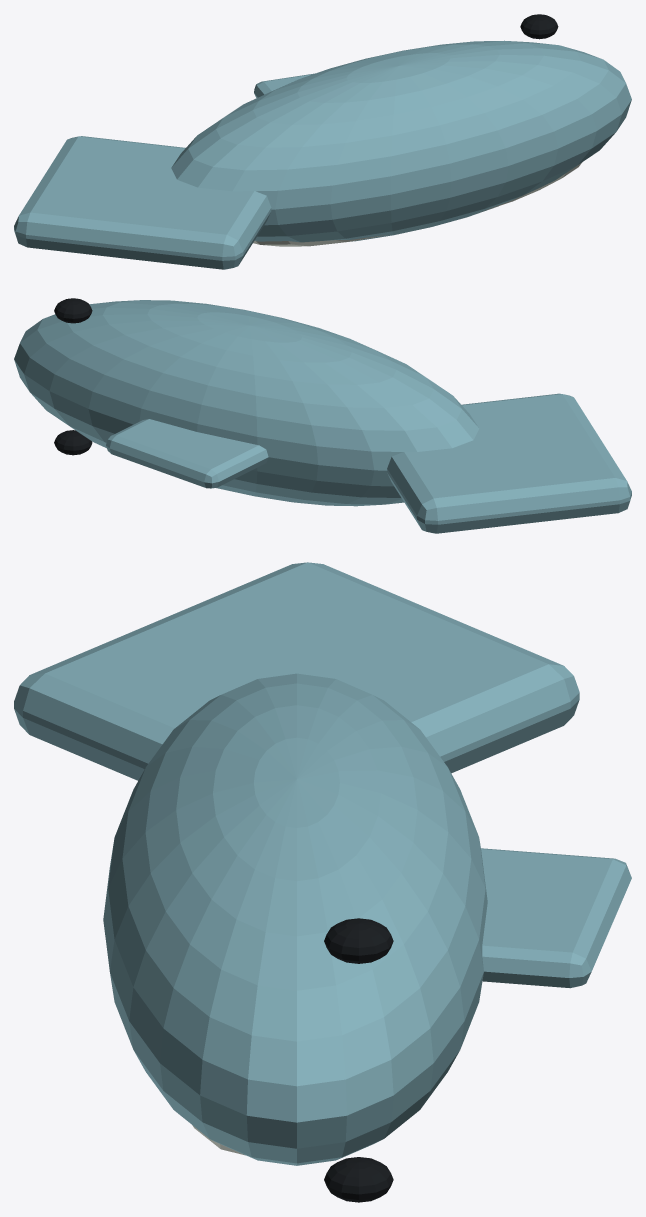
Rendered from fish.glb.
3 renders of one model, top to bottom at view 1: azimuth 30°, elevation 25°; view 2: azimuth 150°, elevation 25°; view 3: azimuth 270°, elevation 25°, orthographic. The views are drawn at different scales.
Parts seen in each view (by area): view 1: Fish_Body, Fish_Tail, Eye.001, Fish_Belly, Dorsal_Fin; view 2: Fish_Body, Fish_Tail, Dorsal_Fin, Eye.001, Eye; view 3: Fish_Body, Fish_Tail, Dorsal_Fin, Eye, Eye.001.
Part boxes in pixels (x1,y1,x2,y2): Fish_Body: [171, 40, 631, 242]; Fish_Tail: [14, 136, 271, 269]; Eye.001: [520, 14, 558, 39]; Fish_Belly: [253, 162, 582, 246]; Dorsal_Fin: [254, 73, 315, 98]; Fish_Body: [14, 300, 479, 506]; Fish_Tail: [387, 393, 631, 533]; Dorsal_Fin: [106, 419, 268, 488]; Eye.001: [54, 298, 92, 323]; Eye: [54, 430, 92, 455]; Fish_Body: [103, 673, 487, 1165]; Fish_Tail: [14, 562, 579, 780]; Dorsal_Fin: [481, 848, 631, 988]; Eye: [324, 1157, 393, 1202]; Eye.001: [324, 918, 393, 963].
Size of the model in its own units: 1.66 by 0.4 by 0.798.
